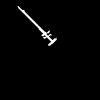treble_crochet: (18, 7, 55, 44)
